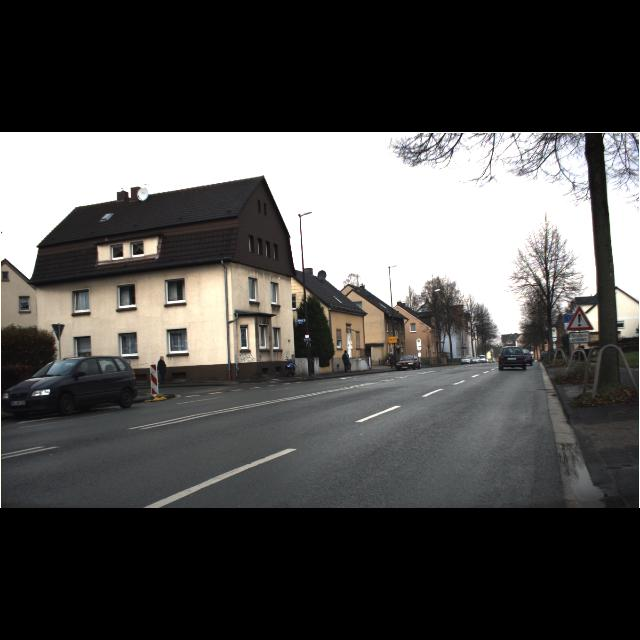danger: (566, 306, 594, 330)
